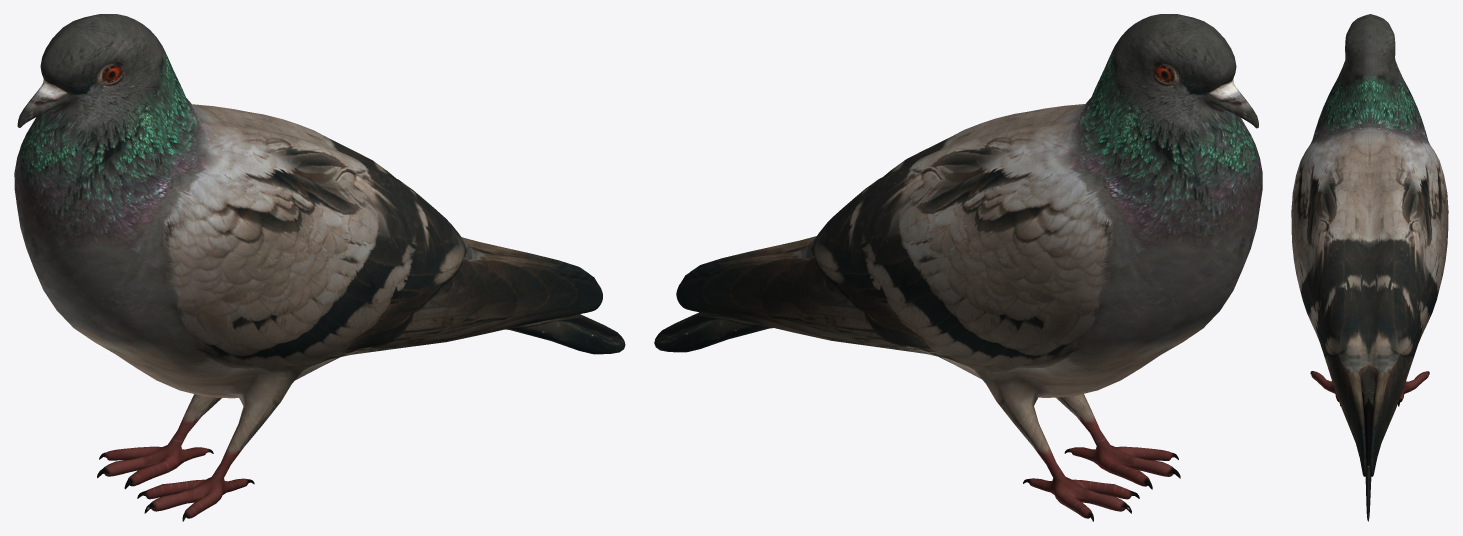
3 views of the same model, side by side, from view 1: azimuth 30°, elevation 25°; view 2: azimuth 150°, elevation 25°; view 3: azimuth 270°, elevation 25° (orthographic). The views are drawn at different scales.
Parts seen in each view (by area): view 1: _008_Vray; view 2: _008_Vray; view 3: _008_Vray.
Boxes of the visible parts, <box> form: _008_Vray: <box>14,14,625,521</box>; _008_Vray: <box>654,14,1262,521</box>; _008_Vray: <box>1291,14,1448,521</box>.
Size of the model in its own units: 3.92 by 1.25 by 3.01.
1 material, 1 textured.
